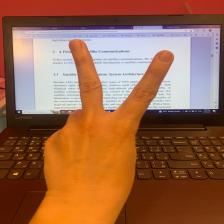two: (46, 38, 177, 194)
